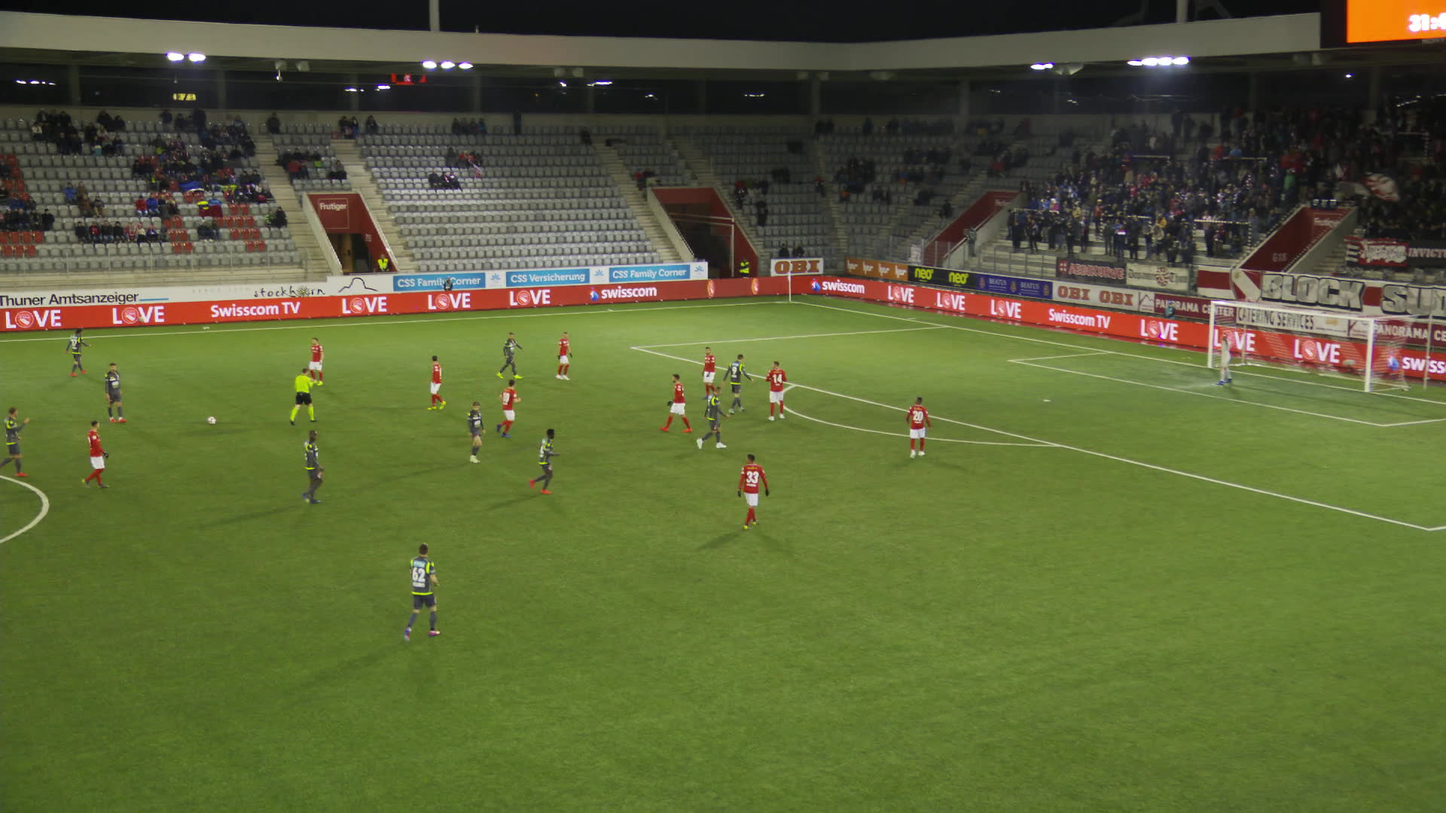ball: (208, 416, 215, 424)
player: (405, 542, 438, 640), (298, 431, 329, 506), (78, 422, 111, 490), (737, 454, 767, 528), (527, 427, 559, 494), (5, 407, 34, 477), (460, 403, 493, 464), (908, 396, 931, 458), (423, 356, 449, 410), (494, 379, 517, 437), (769, 361, 789, 421), (728, 354, 748, 413), (551, 333, 576, 380), (698, 347, 721, 398), (105, 363, 124, 424), (706, 386, 723, 449), (670, 371, 687, 433), (306, 338, 328, 385), (67, 327, 86, 376), (502, 330, 520, 379), (1216, 332, 1232, 384)
referee: (291, 366, 311, 424)
